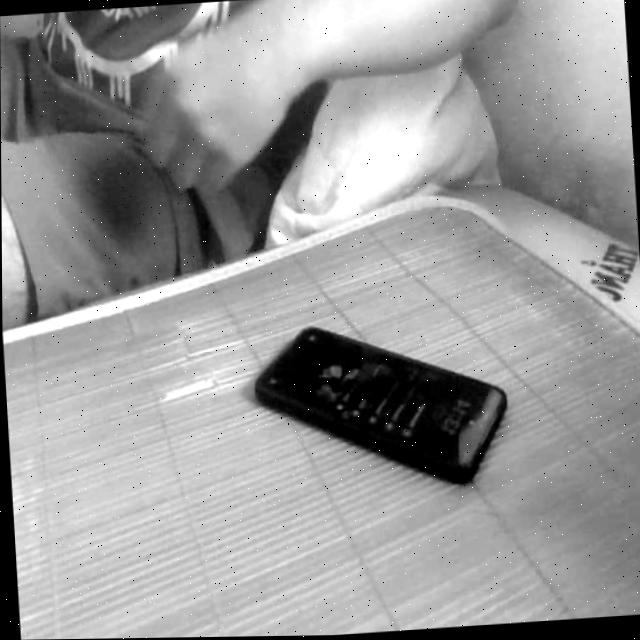phone: (241, 290, 521, 518)
